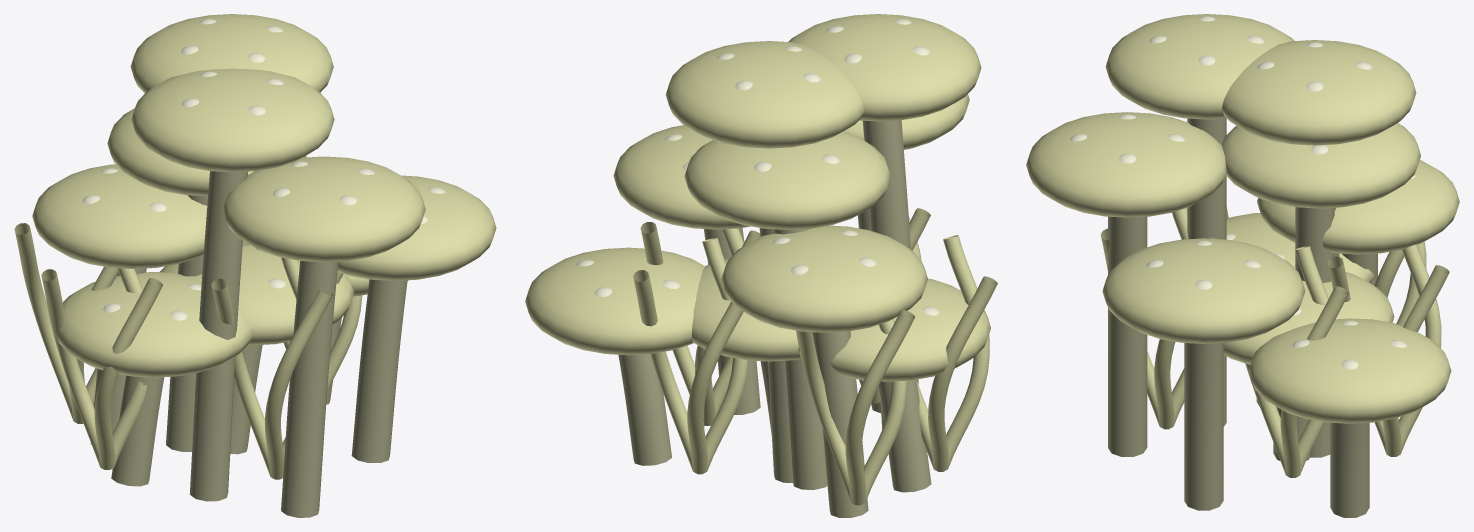
Rendered from bio_spore_fungus_19_near.glb.
3 renders of one model, left to right at view 1: azimuth 30°, elevation 25°; view 2: azimuth 150°, elevation 25°; view 3: azimuth 270°, elevation 25°, orthographic.
Parts seen in each view (by area): view 1: Thick umbrella cap.007, Thick umbrella cap.002, Thick umbrella cap.001, Thick umbrella cap.004, Thick umbrella cap.003, Curved stipe.007, Curved stipe.002, Thick umbrella cap.005, Curved stipe.005, Spiral filament.012, Spiral filament.006, Thick umbrella cap (+7 smaller); view 2: Thick umbrella cap.001, Thick umbrella cap.003, Thick umbrella cap.006, Thick umbrella cap.008, Thick umbrella cap.007, Spiral filament.009, Spiral filament.003, Thick umbrella cap.004, Thick umbrella cap.005, Spiral filament.012, Thick umbrella cap, Curved stipe.008 (+9 smaller); view 3: Thick umbrella cap.005, Thick umbrella cap.002, Thick umbrella cap.008, Thick umbrella cap.003, Thick umbrella cap.007, Thick umbrella cap.006, Thick umbrella cap.001, Curved stipe.002, Curved stipe.005, Spiral filament, Spiral filament.009, Curved stipe.008 (+7 smaller).
Part boxes in pixels (x1,y1,x2,y2): Thick umbrella cap.007: [131, 68, 334, 172]; Thick umbrella cap.002: [222, 156, 425, 262]; Thick umbrella cap.001: [32, 164, 207, 268]; Thick umbrella cap.004: [55, 272, 252, 377]; Thick umbrella cap.003: [130, 14, 333, 92]; Curved stipe.007: [189, 171, 247, 501]; Curved stipe.002: [281, 261, 338, 517]; Thick umbrella cap.005: [337, 175, 496, 280]; Curved stipe.005: [351, 279, 407, 462]; Spiral filament.012: [41, 268, 162, 469]; Spiral filament.006: [211, 257, 333, 479]; Thick umbrella cap: [160, 245, 354, 345]; Thick umbrella cap.001: [721, 225, 927, 332]; Thick umbrella cap.003: [665, 41, 864, 148]; Thick umbrella cap.006: [684, 131, 890, 229]; Thick umbrella cap.008: [525, 247, 705, 355]; Thick umbrella cap.007: [788, 14, 981, 121]; Spiral filament.009: [633, 237, 748, 474]; Spiral filament.003: [796, 310, 914, 505]; Thick umbrella cap.004: [798, 278, 990, 381]; Thick umbrella cap.005: [613, 125, 750, 229]; Spiral filament.012: [916, 235, 997, 471]; Thick umbrella cap: [691, 258, 801, 361]; Curved stipe.008: [618, 354, 671, 465]; Thick umbrella cap.005: [1102, 238, 1305, 343]; Thick umbrella cap.002: [1026, 112, 1226, 217]; Thick umbrella cap.008: [1248, 318, 1451, 423]; Thick umbrella cap.003: [1222, 40, 1416, 145]; Thick umbrella cap.007: [1105, 14, 1294, 119]; Thick umbrella cap.006: [1221, 123, 1420, 208]; Thick umbrella cap.001: [1257, 160, 1459, 254]; Curved stipe.002: [1108, 216, 1147, 456]; Curved stipe.005: [1184, 343, 1223, 510]; Spiral filament: [1245, 245, 1348, 477]; Spiral filament.009: [1327, 244, 1449, 456]; Curved stipe.008: [1330, 422, 1369, 517].
Size of the model in its own units: 2.08 by 1.92 by 1.88.
